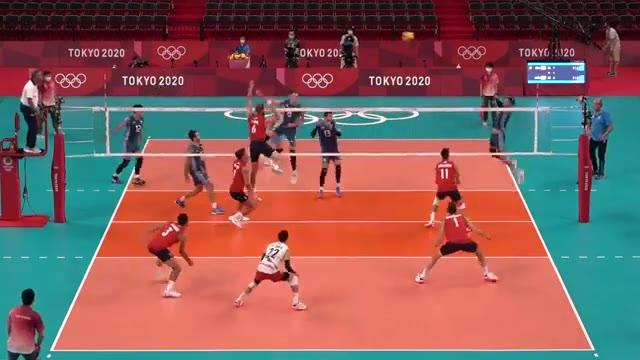ball: (403, 32, 414, 42)
